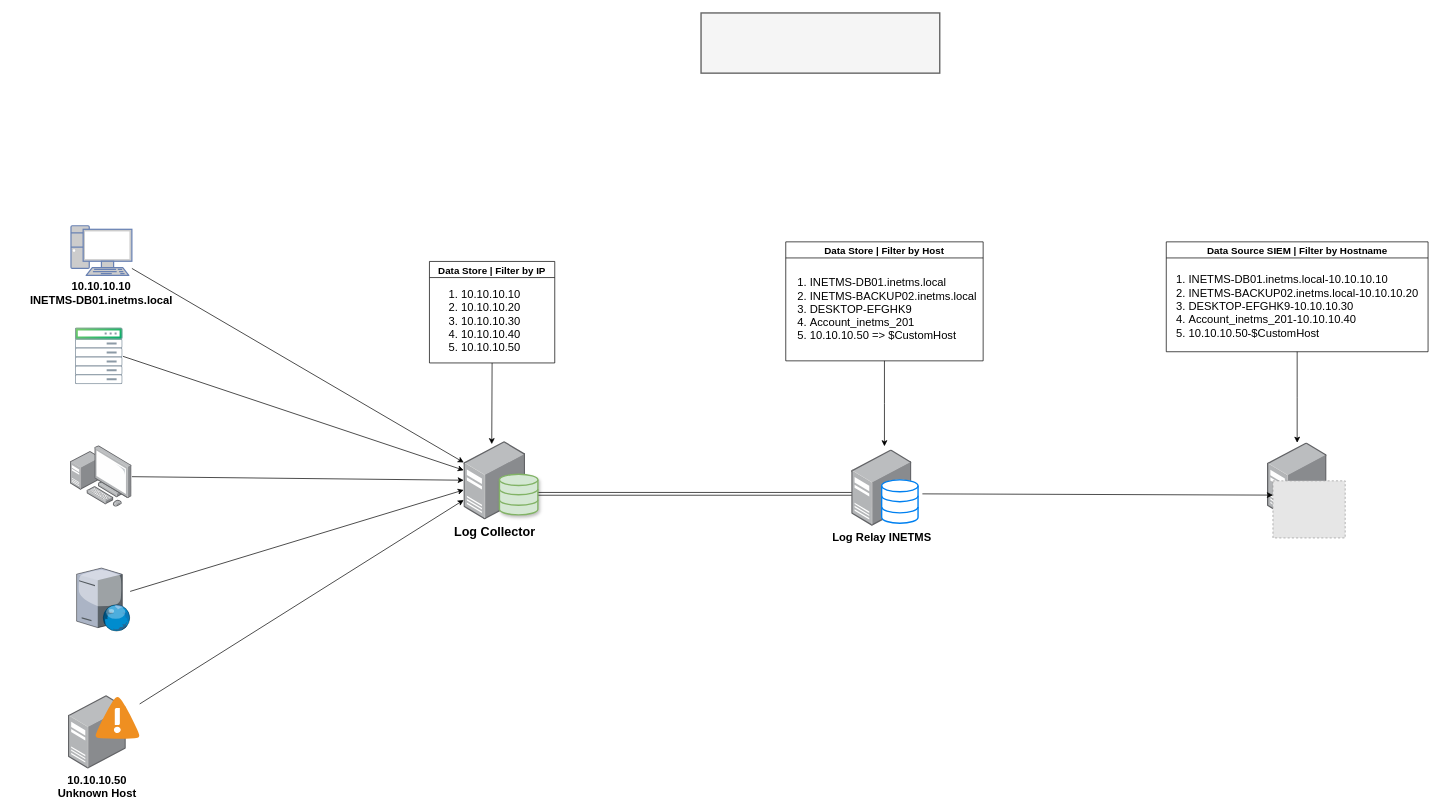
This 1441x812 diagram has some shape labels left out. Grey dashed boxes stand in for pictures. The centre of each missing label's shape, as x and y in pixels:
"10.10.10.20 INETMS-BACKUP02.inetms.local" belongs at (99,356).
"10.10.10.30 DESKTOP-EFGHK9" belongs at (101,476).
"10.10.10.40 Account_inetms_201" belongs at (103,599).
"Filter Log Host Script" belongs at (820,43).
